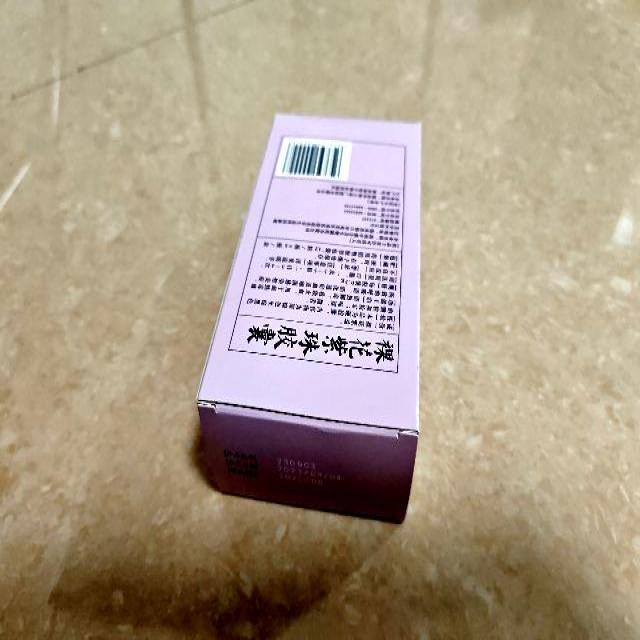box: (194, 110, 423, 522)
